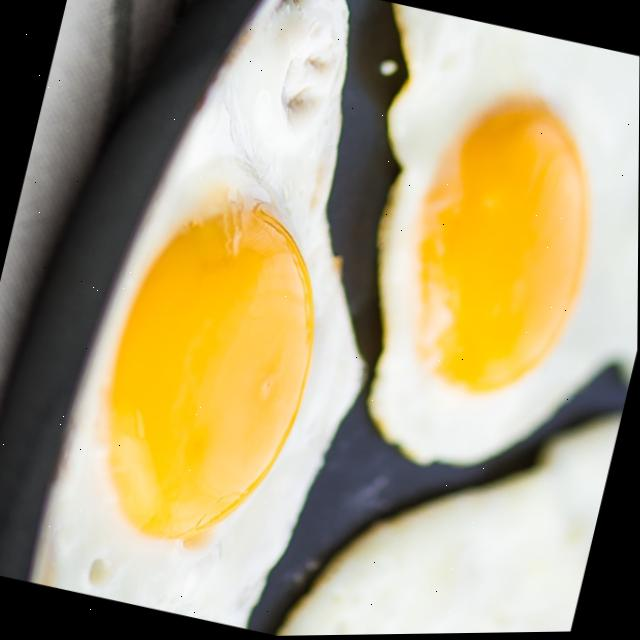Egg: (31, 0, 363, 629), (369, 4, 640, 466)
